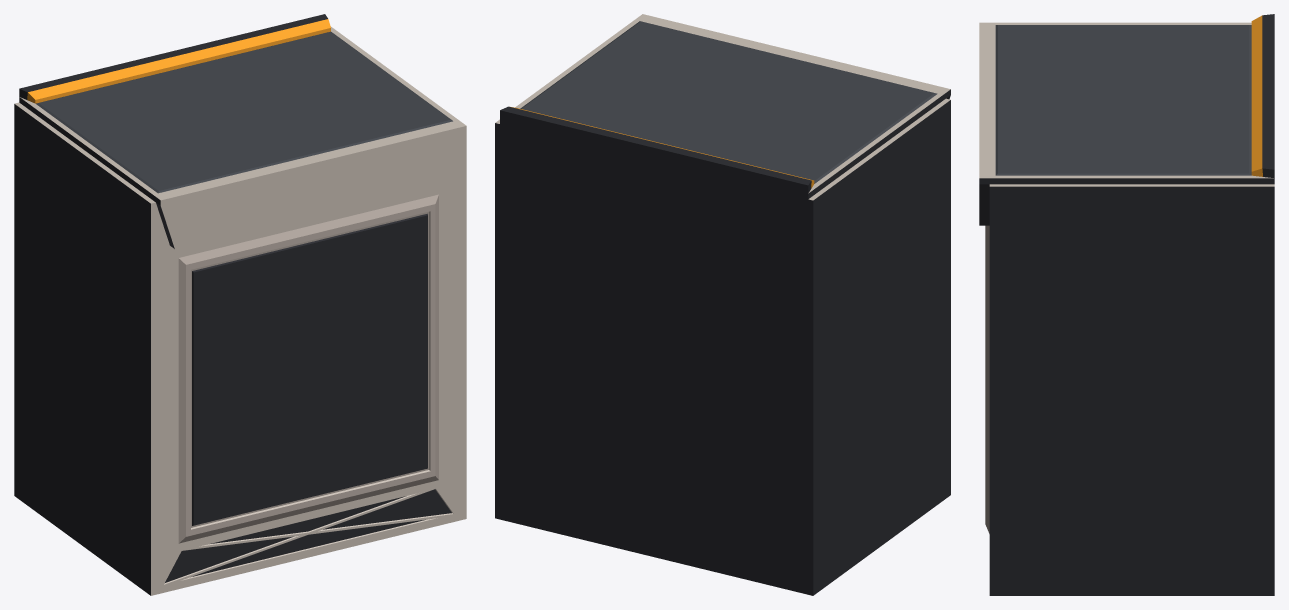
File: SM_Kitchem_Stove.glb
3 views of the same model, side by side, from view 1: azimuth 30°, elevation 25°; view 2: azimuth 150°, elevation 25°; view 3: azimuth 270°, elevation 25° (orthographic). The views are drawn at different scales.
Parts seen in each view (by area): view 1: SM_Kitchem_Stove.001; view 2: SM_Kitchem_Stove.001; view 3: SM_Kitchem_Stove.001.
Boxes of the visible parts, x1,y1,x2,y2 form: SM_Kitchem_Stove.001: (14,14,466,595); SM_Kitchem_Stove.001: (495,14,950,595); SM_Kitchem_Stove.001: (979,14,1274,595).
Bounding box in the file's own units: 0.8 × 0.9835 × 0.6217.
Materials: 1 (1 with a texture image).
